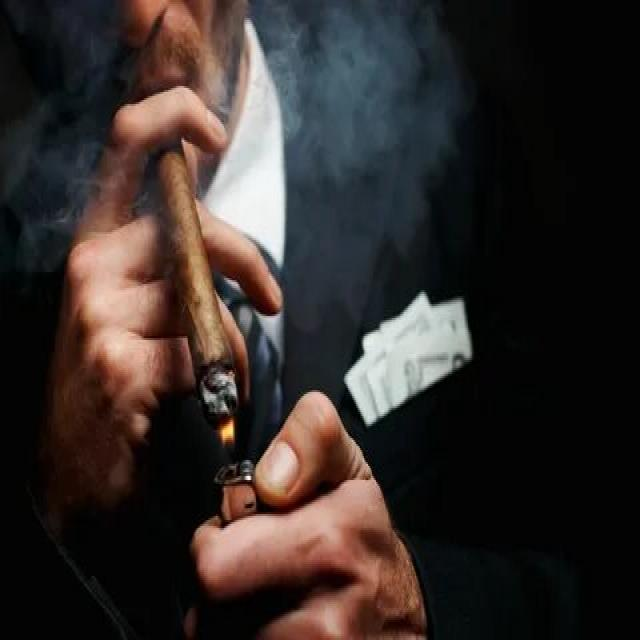smoke: (148, 138, 245, 436)
